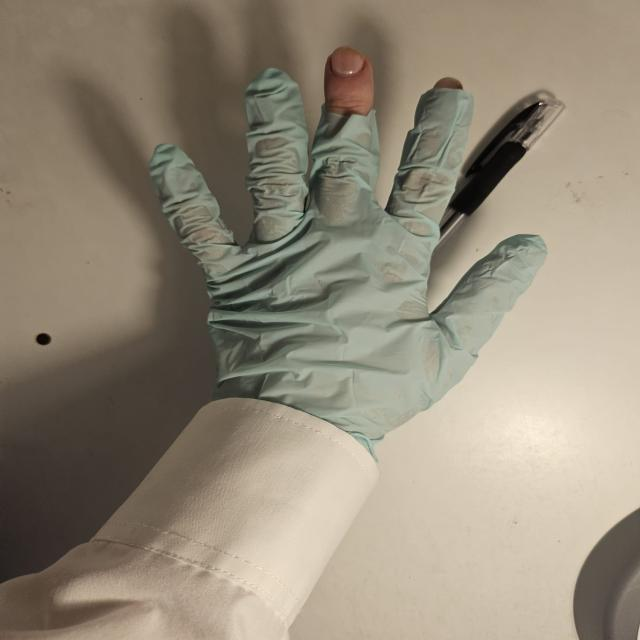gloves_damaged: (144, 46, 550, 448)
